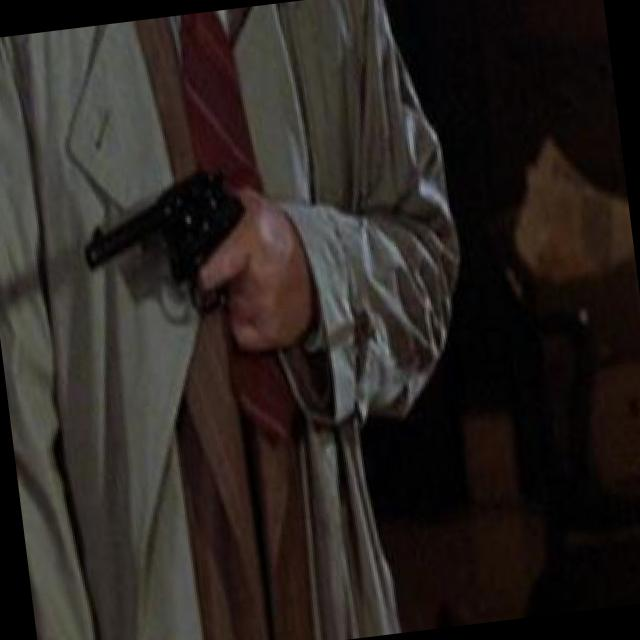Guns: (56, 147, 286, 344)
